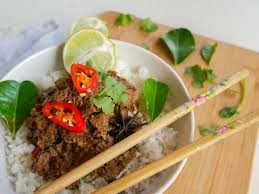rendang: (23, 50, 154, 194)
